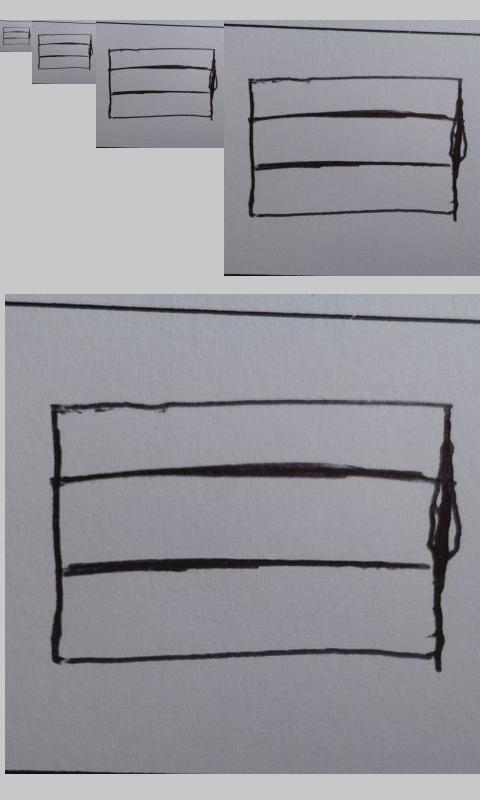list_view: (47, 397, 455, 669), (247, 72, 466, 222), (107, 47, 216, 119), (36, 33, 93, 70), (2, 26, 31, 46)
